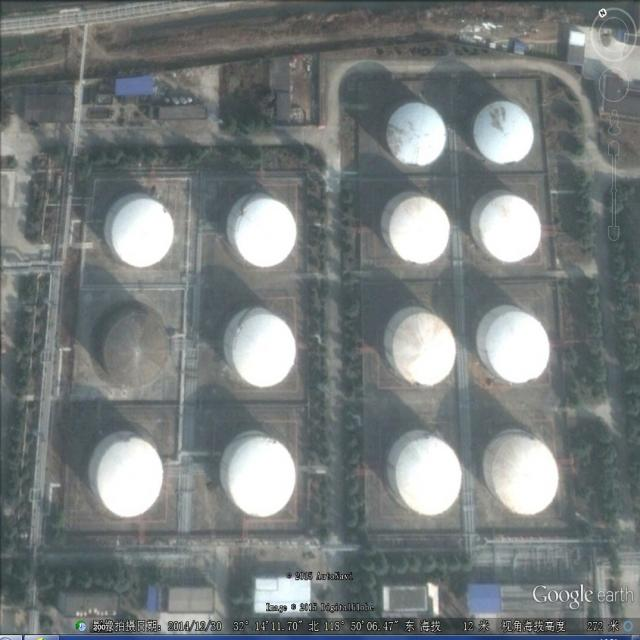oiltank: (217, 427, 301, 524), (481, 423, 562, 520), (385, 424, 465, 520), (85, 428, 165, 523), (92, 303, 176, 390), (473, 301, 555, 389), (220, 305, 301, 392), (382, 303, 461, 392), (466, 185, 545, 266), (224, 188, 299, 270), (378, 188, 454, 268), (102, 191, 177, 271), (380, 98, 451, 170), (469, 95, 537, 166)
